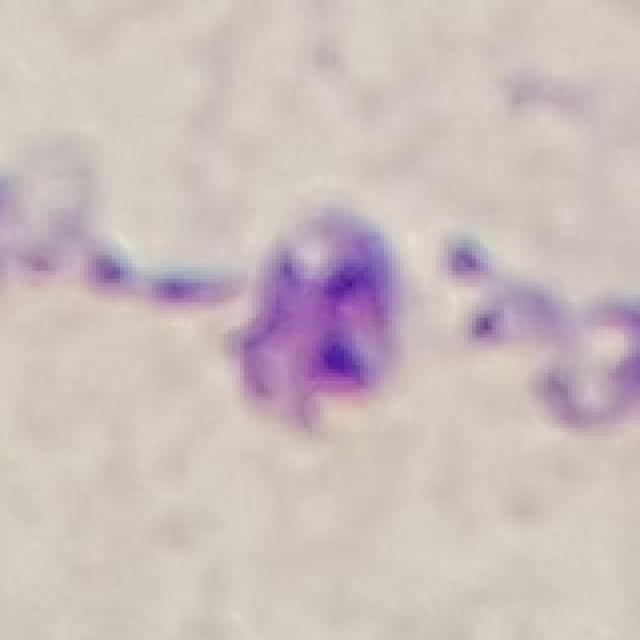non-sperm: (53, 182, 541, 477)
